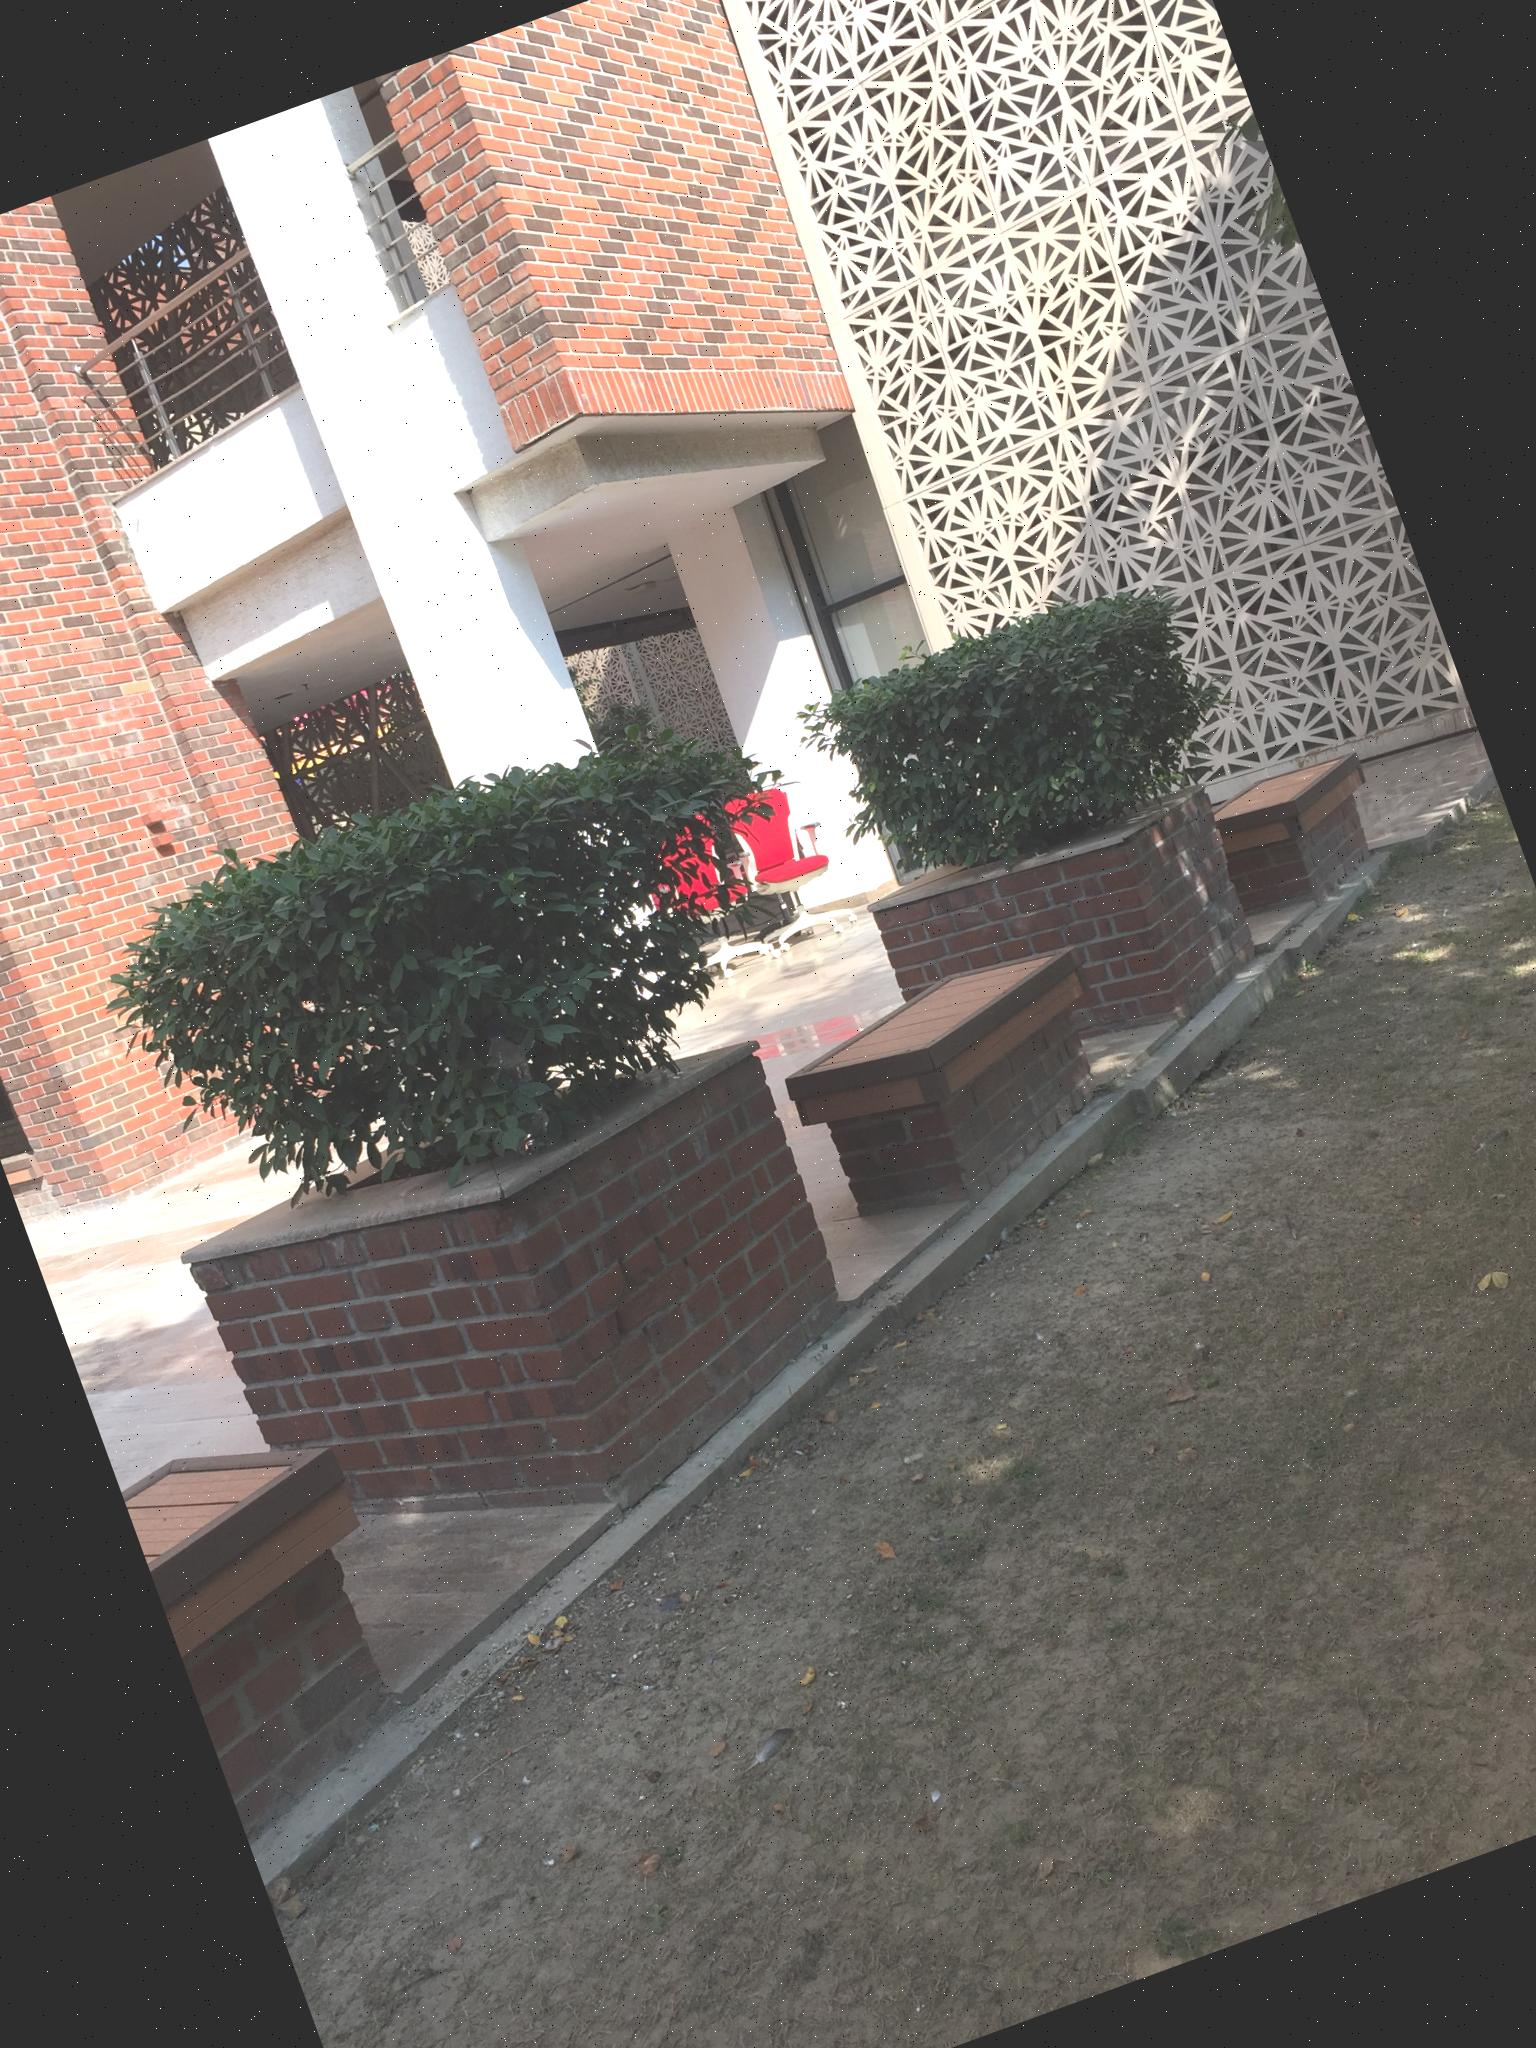chair: (624, 795, 778, 992), (716, 771, 857, 958)
